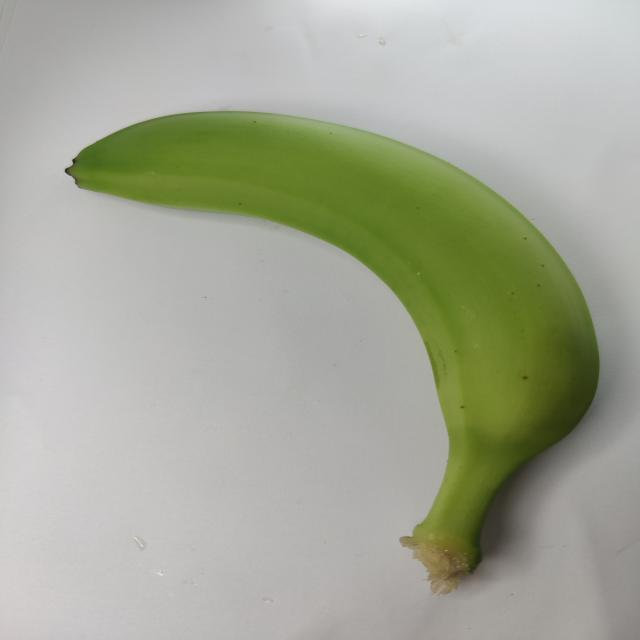raw: (24, 87, 627, 598)
